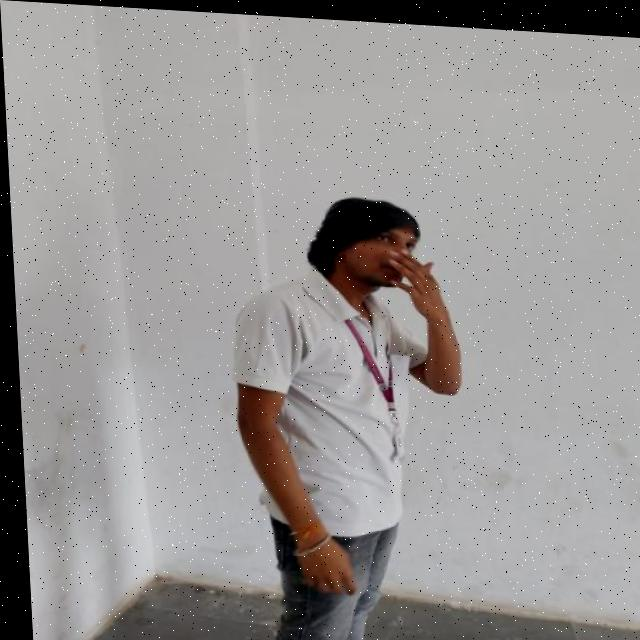id_card: (340, 304, 413, 459)
